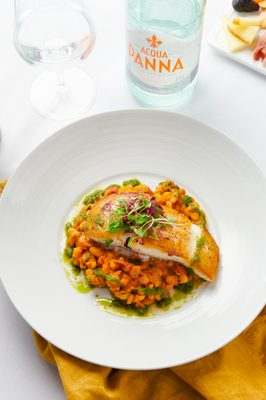curry: (0, 2, 265, 384)
sandwich: (15, 0, 97, 121)
